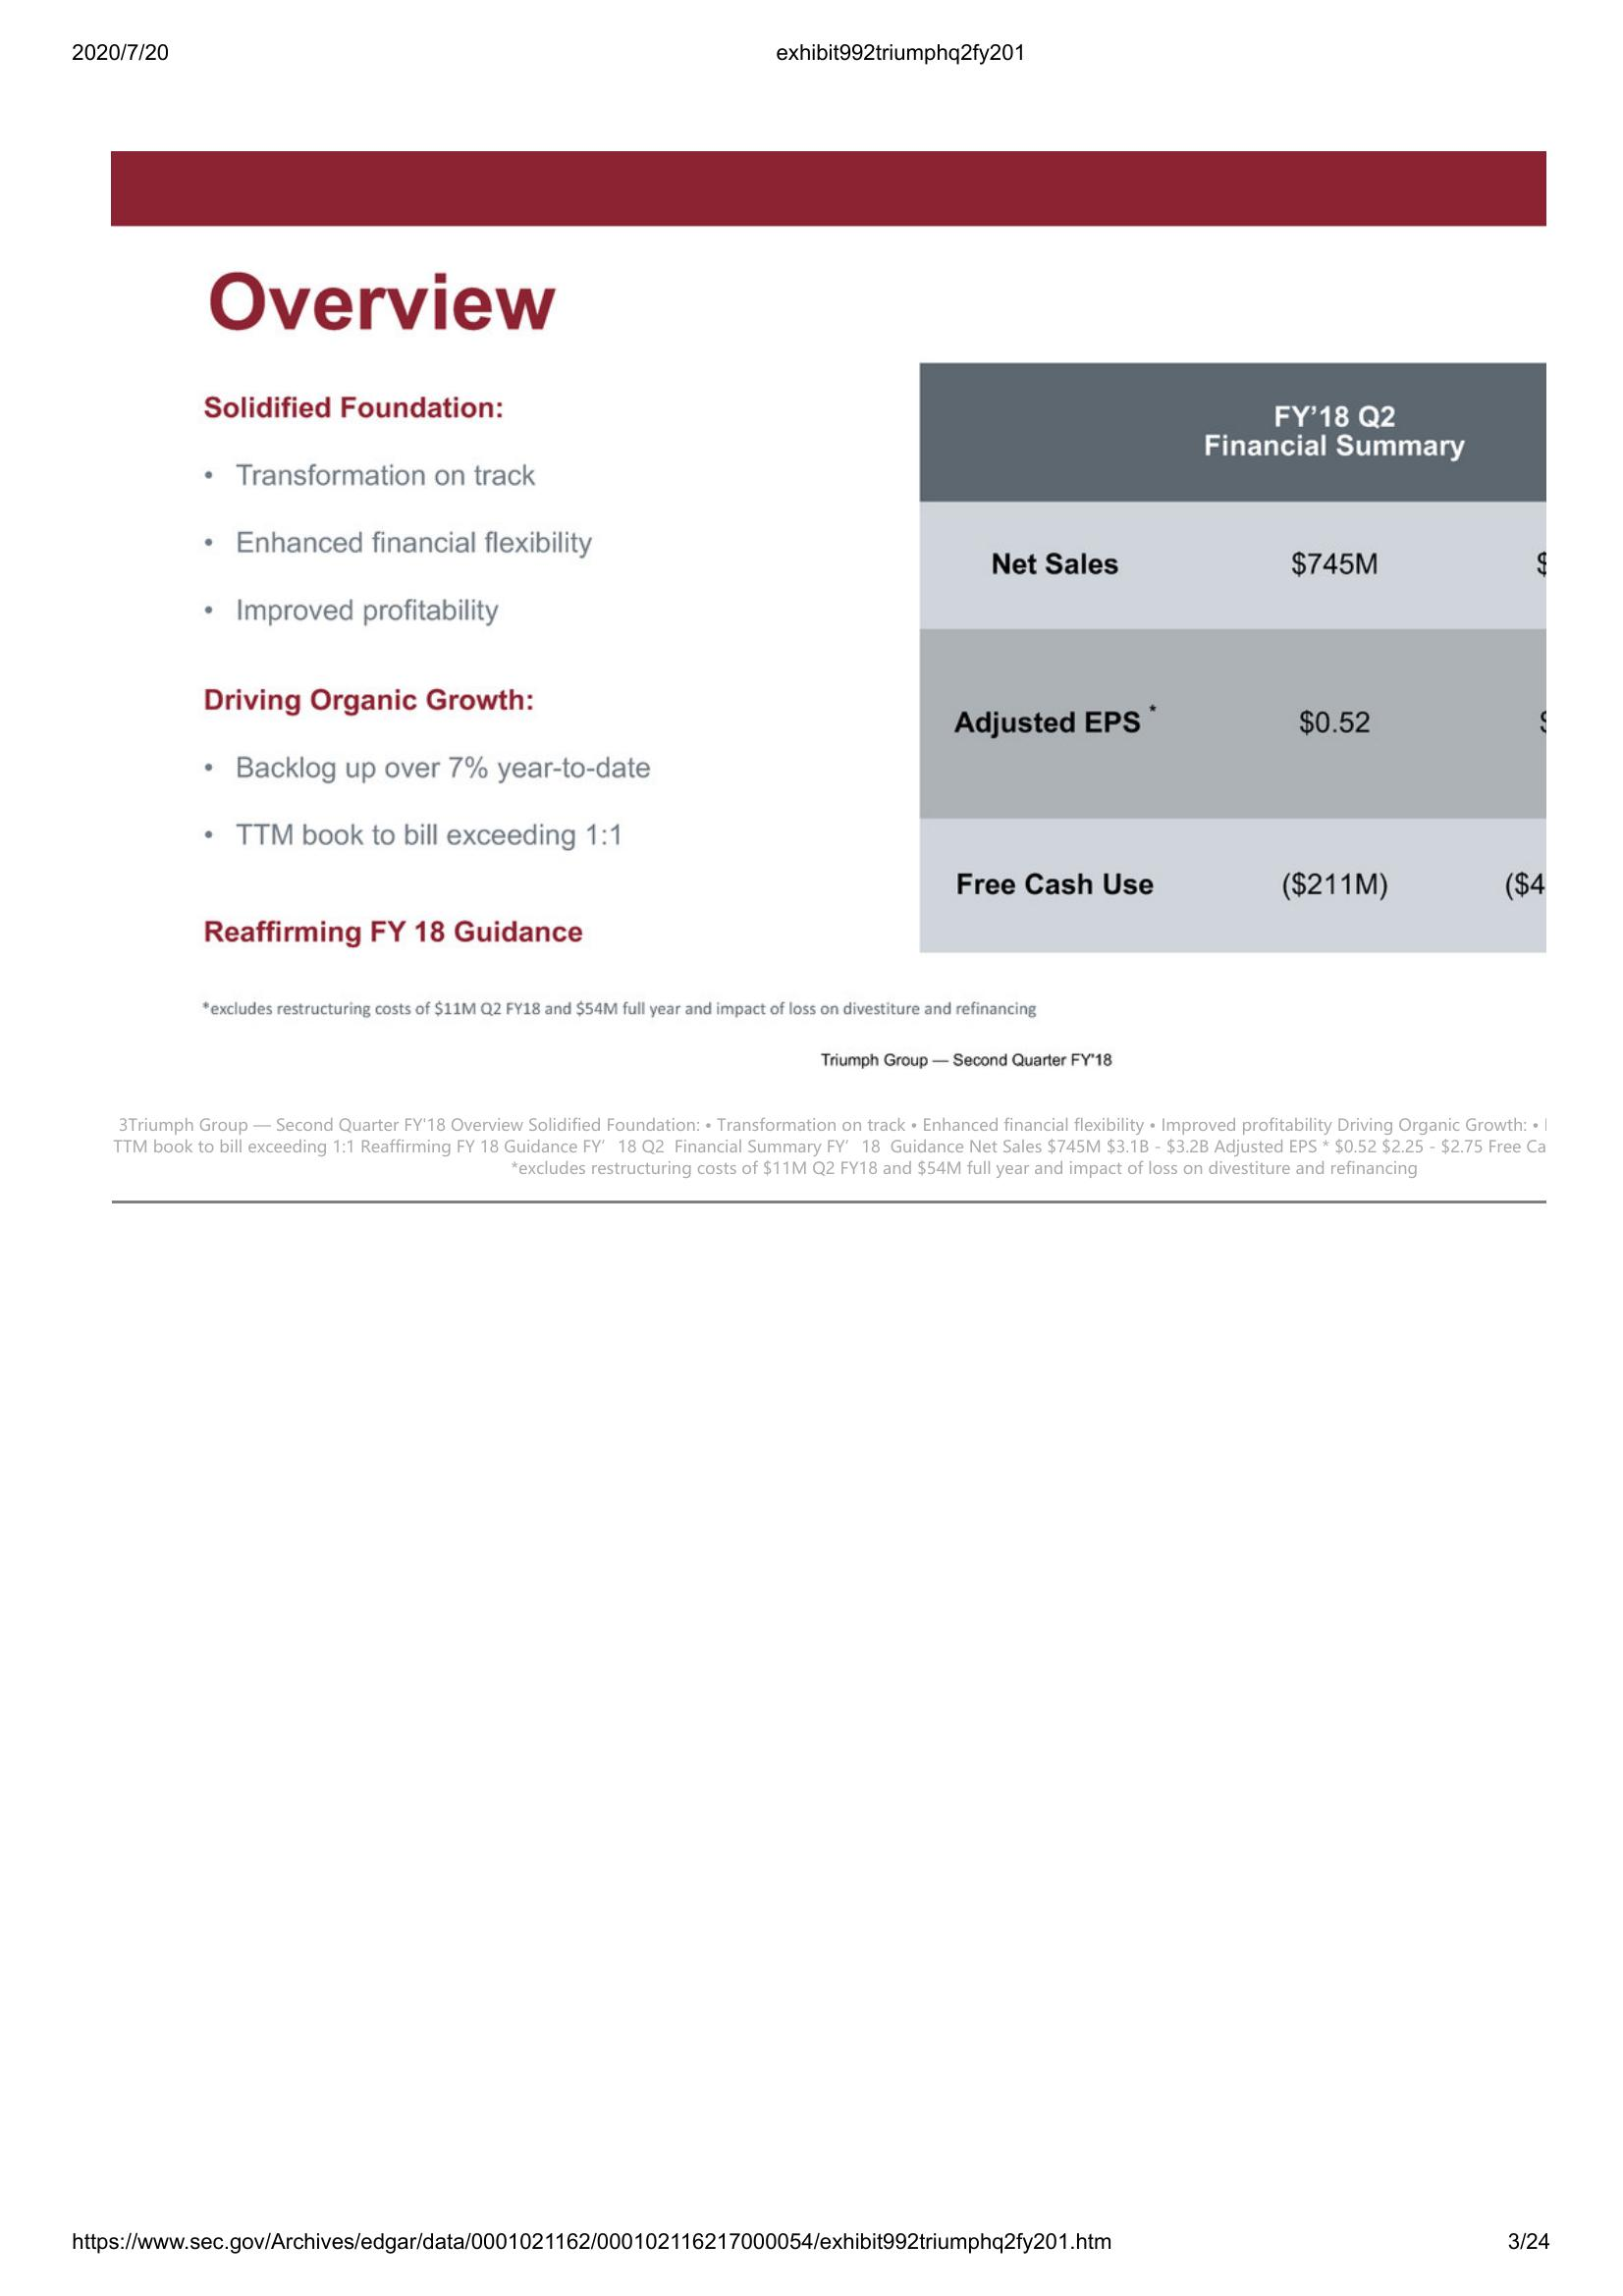table: (912, 355, 1549, 958)
